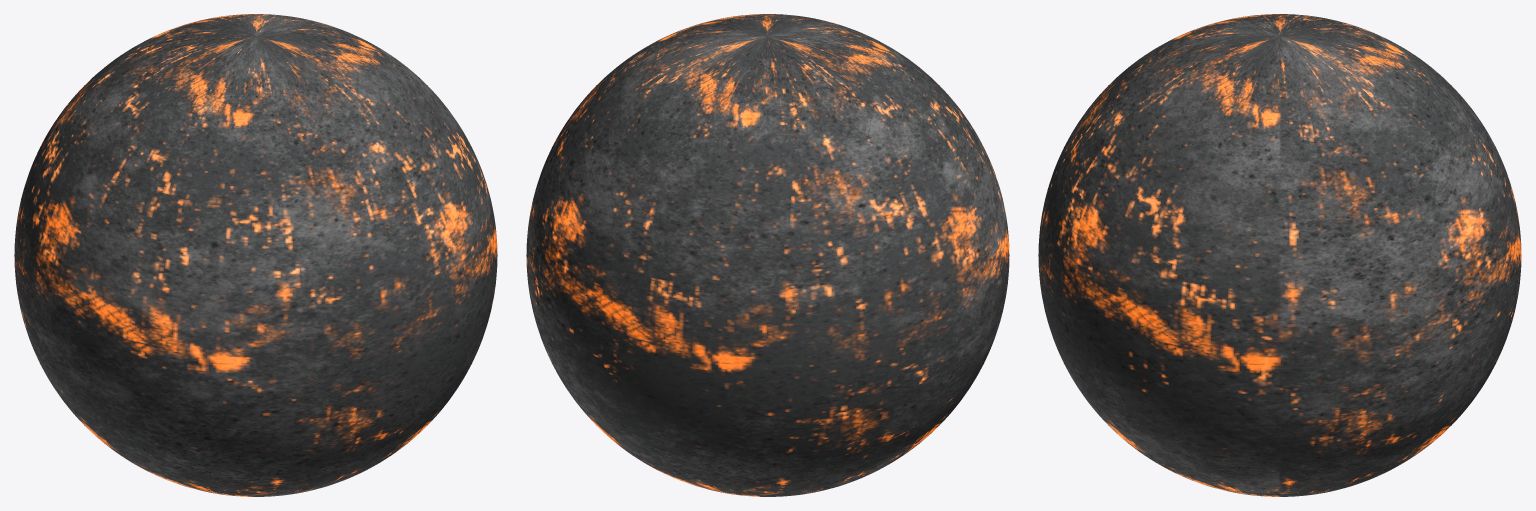
Rendered from planet.glb.
The picture shows the model from 3 angles, left to right: view 1: azimuth 30°, elevation 25°; view 2: azimuth 150°, elevation 25°; view 3: azimuth 270°, elevation 25°; orthographic projection.
Parts seen in each view (by area): view 1: Sphere; view 2: Sphere; view 3: Sphere.
Boxes of the visible parts, <box> form: Sphere: <box>14,14,497,496</box>; Sphere: <box>526,14,1009,496</box>; Sphere: <box>1038,14,1521,496</box>.
Bounding box in the file's own units: 2 × 2 × 2.
Materials: 1 (1 with a texture image).
